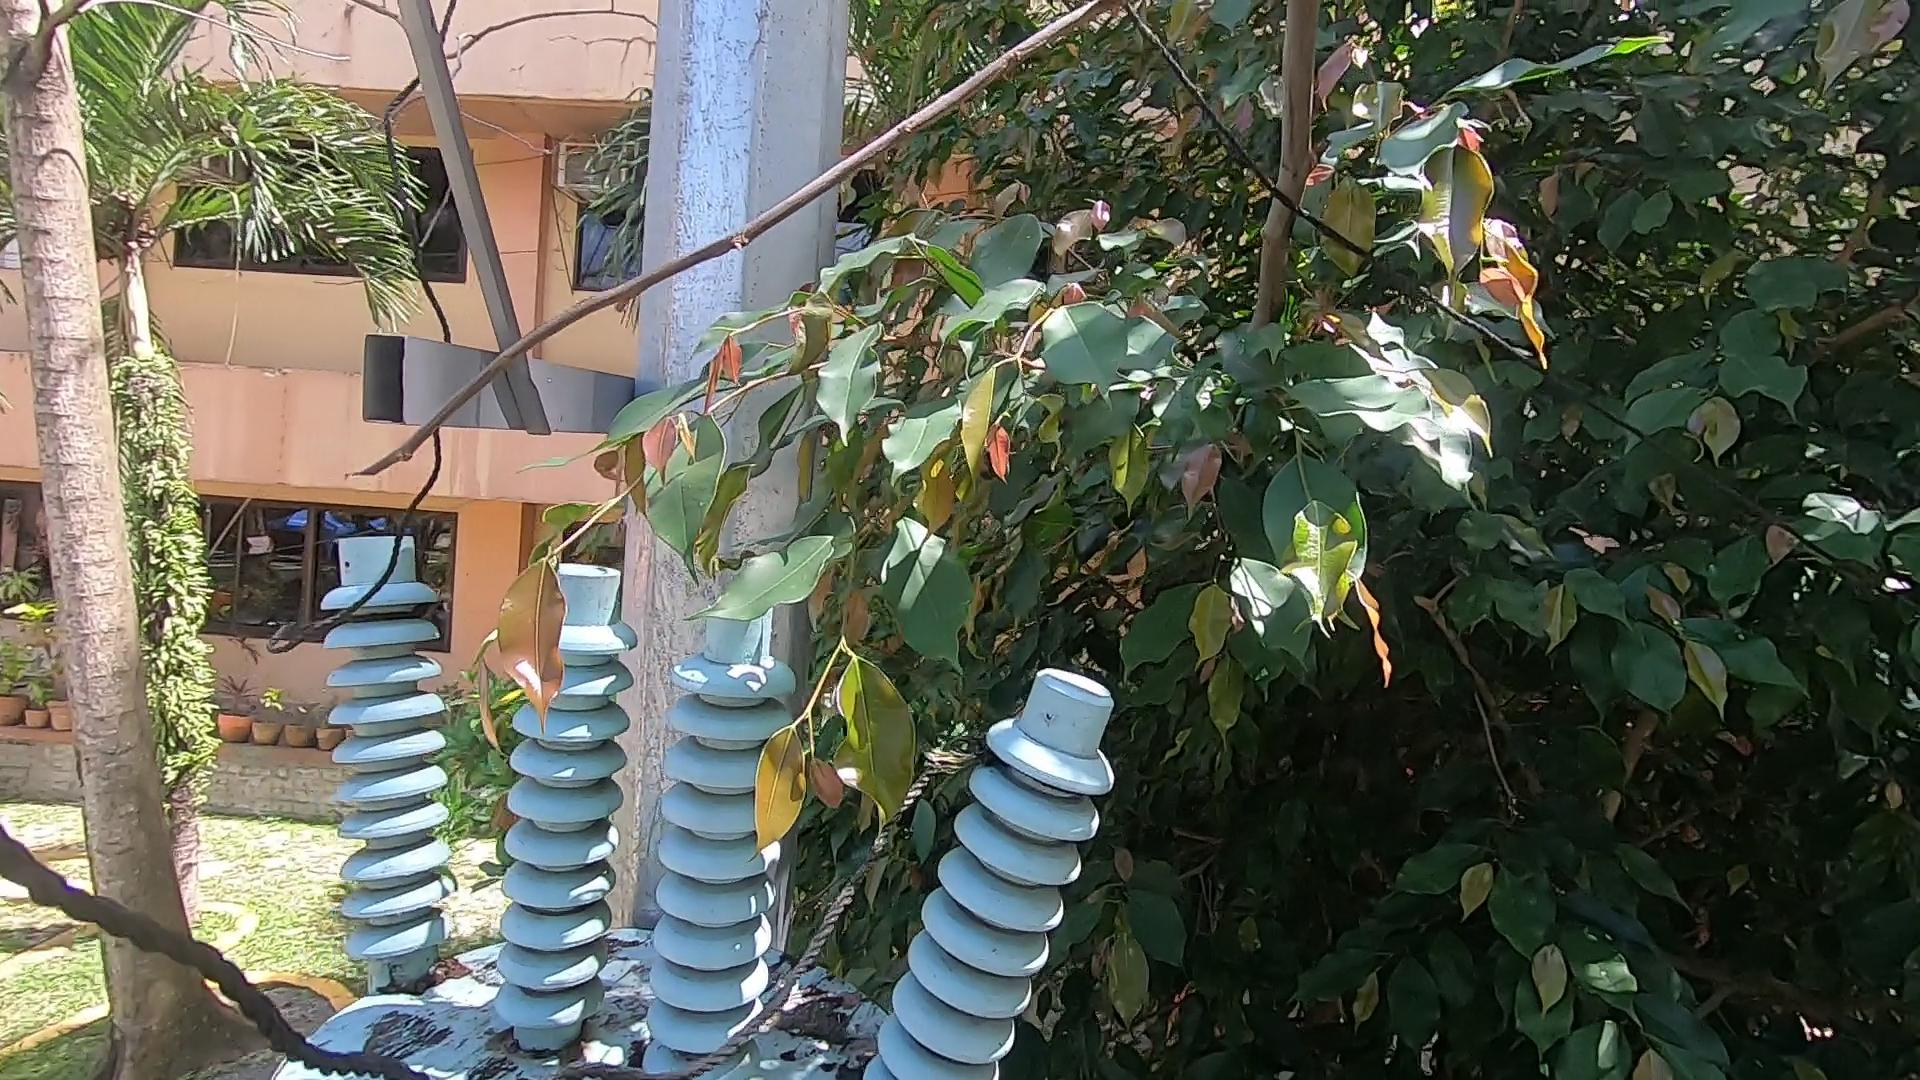leaf: (769, 988, 878, 1042), (386, 953, 471, 1007), (559, 1059, 646, 1080), (554, 1025, 596, 1065), (485, 1025, 512, 1055)
tree branch: (328, 1, 1354, 530)
